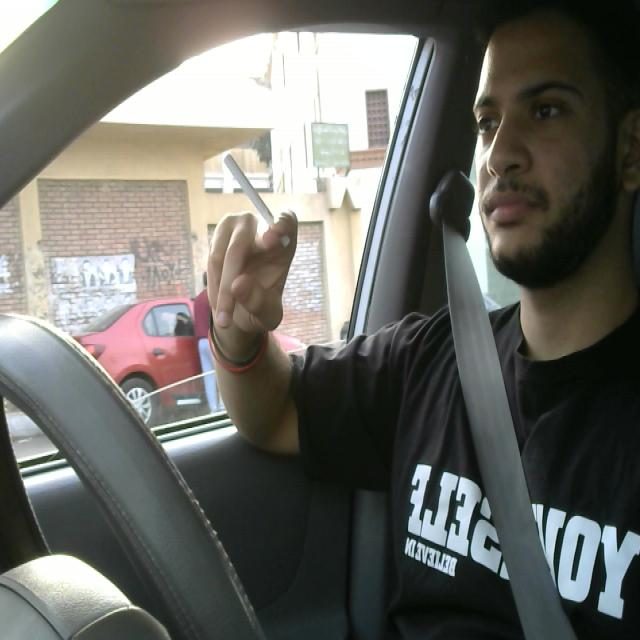smoking: (222, 154, 290, 252)
